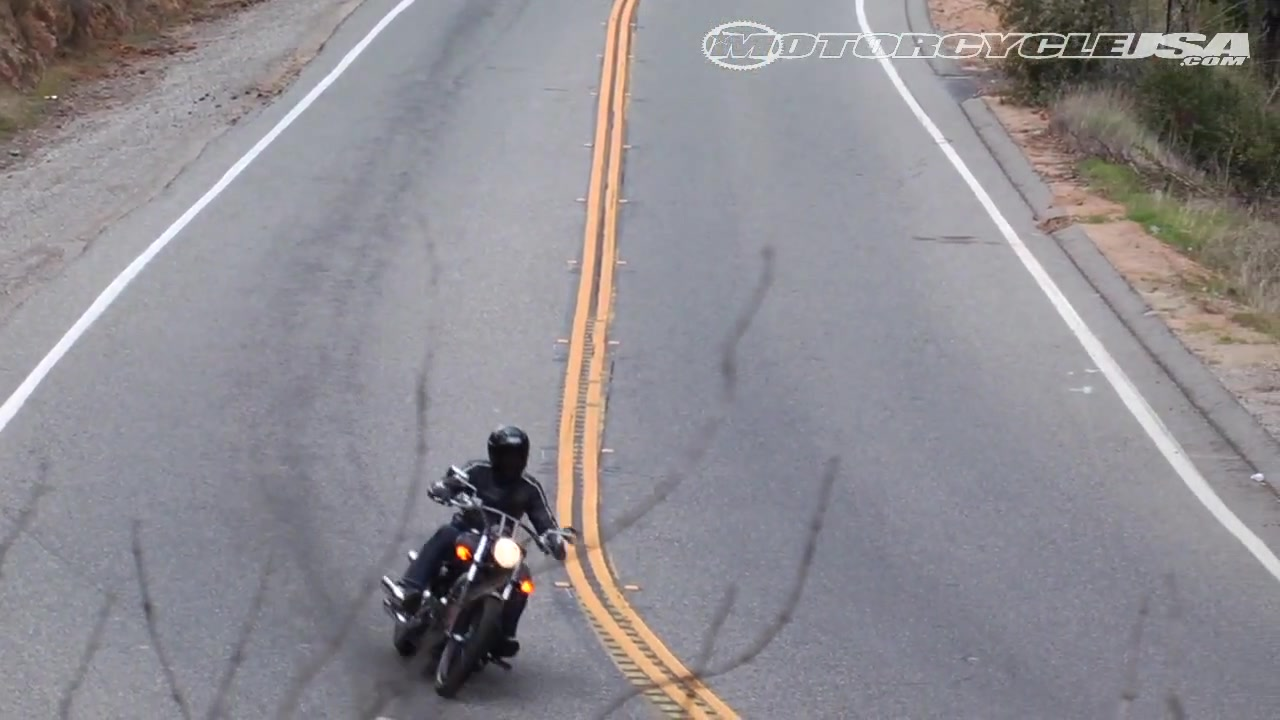motorbike: (379, 466, 581, 700)
